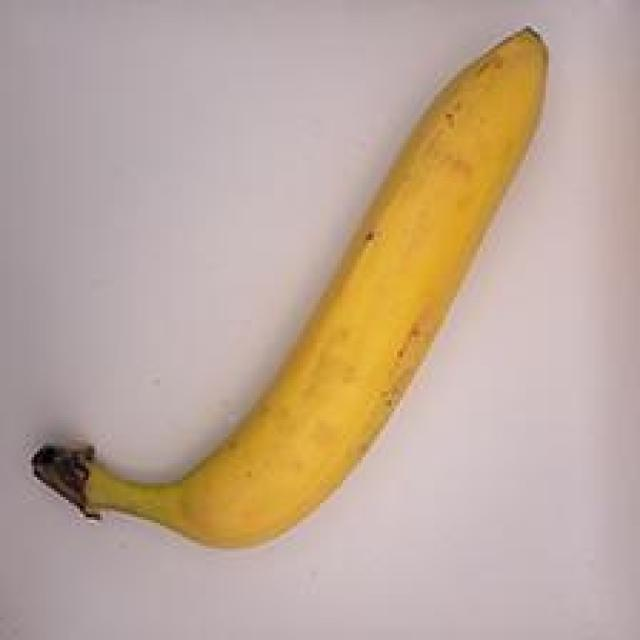Ripe: (26, 16, 566, 572)
